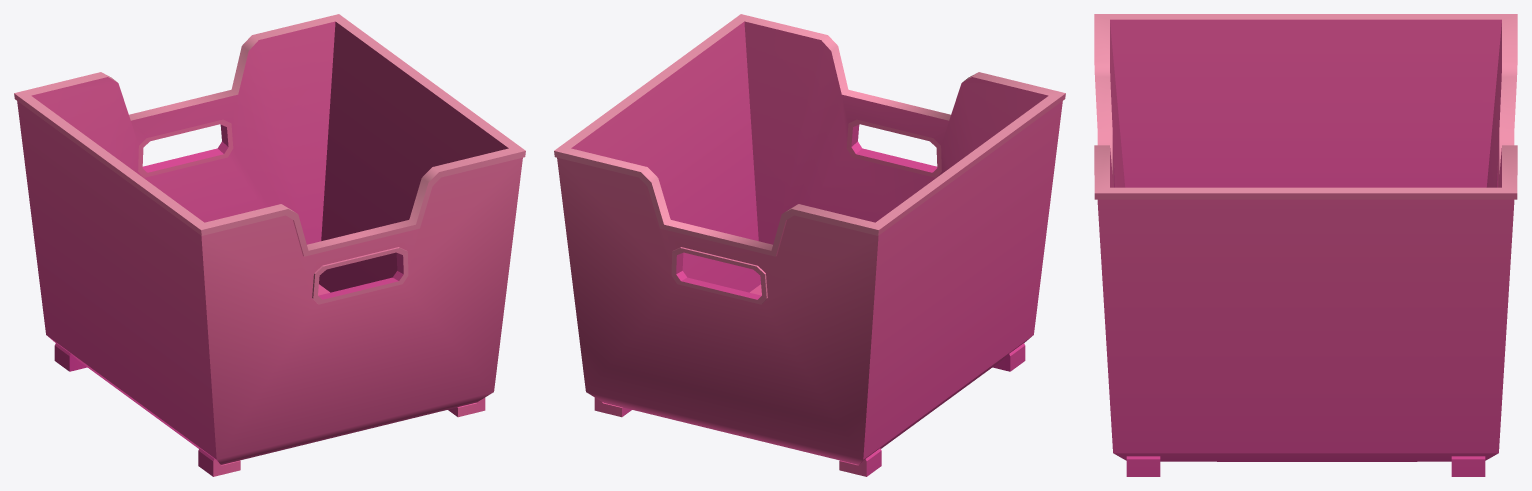
File: CR_Basket_002.FBX
3 renders of one model, left to right at view 1: azimuth 30°, elevation 25°; view 2: azimuth 150°, elevation 25°; view 3: azimuth 270°, elevation 25°, orthographic. The views are drawn at different scales.
Parts seen in each view (by area): view 1: CR_Basket_002; view 2: CR_Basket_002; view 3: CR_Basket_002.
Part boxes in pixels (x1,y1,x2,y2): CR_Basket_002: (14, 14, 525, 476); CR_Basket_002: (554, 14, 1065, 476); CR_Basket_002: (1094, 14, 1517, 476).
Bounding box in the file's own units: 9.33 × 7.23 × 9.3.
